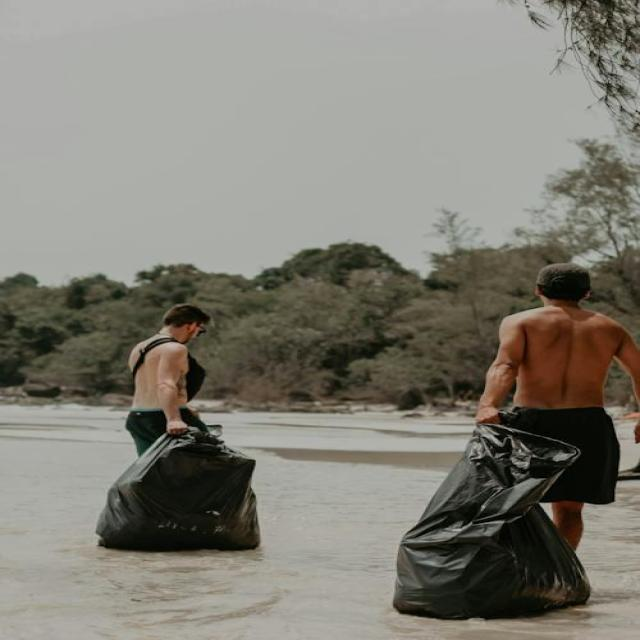trash: (368, 413, 606, 620), (96, 421, 273, 557)
